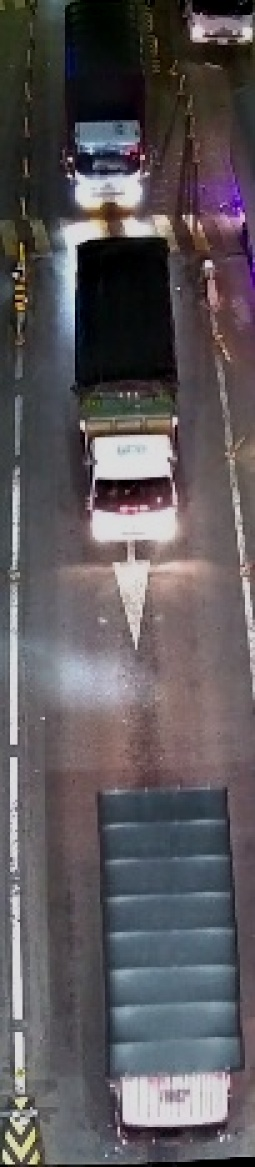truck: (91, 771, 247, 1141), (70, 231, 186, 546), (60, 7, 149, 207)
